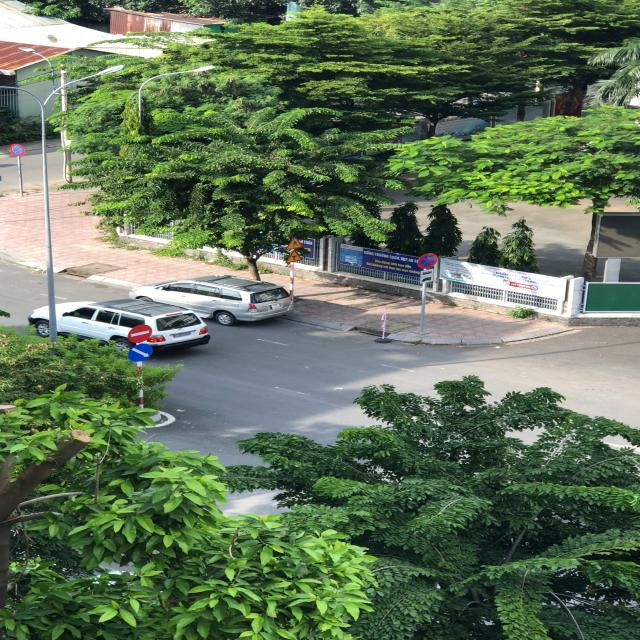Bien bao cam di nguoc chieu: (124, 324, 158, 345)
Bien bao cam dung xe va do xe: (416, 252, 440, 268)
Bien bao duong giao nhau: (284, 250, 308, 264)
Bien bao duong nguoi di bo cat ngang: (282, 236, 305, 250)
Bien bao huong phai di vong chuong ngai vat: (125, 344, 159, 362)
